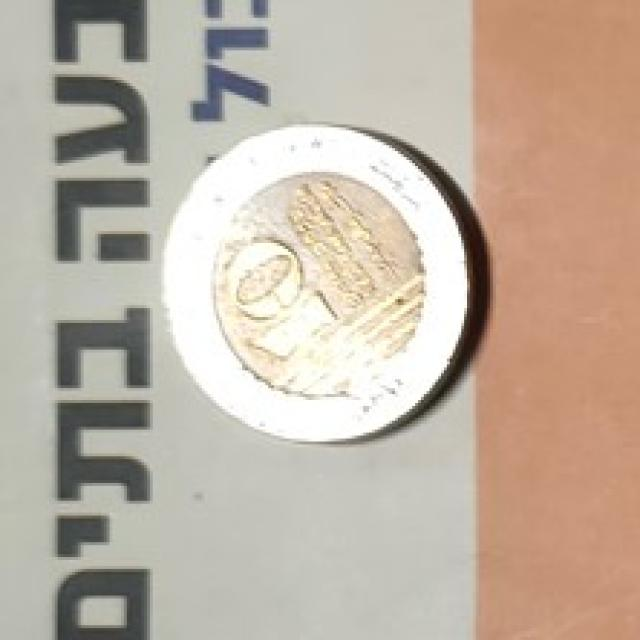10-shekel: (158, 121, 489, 459)
